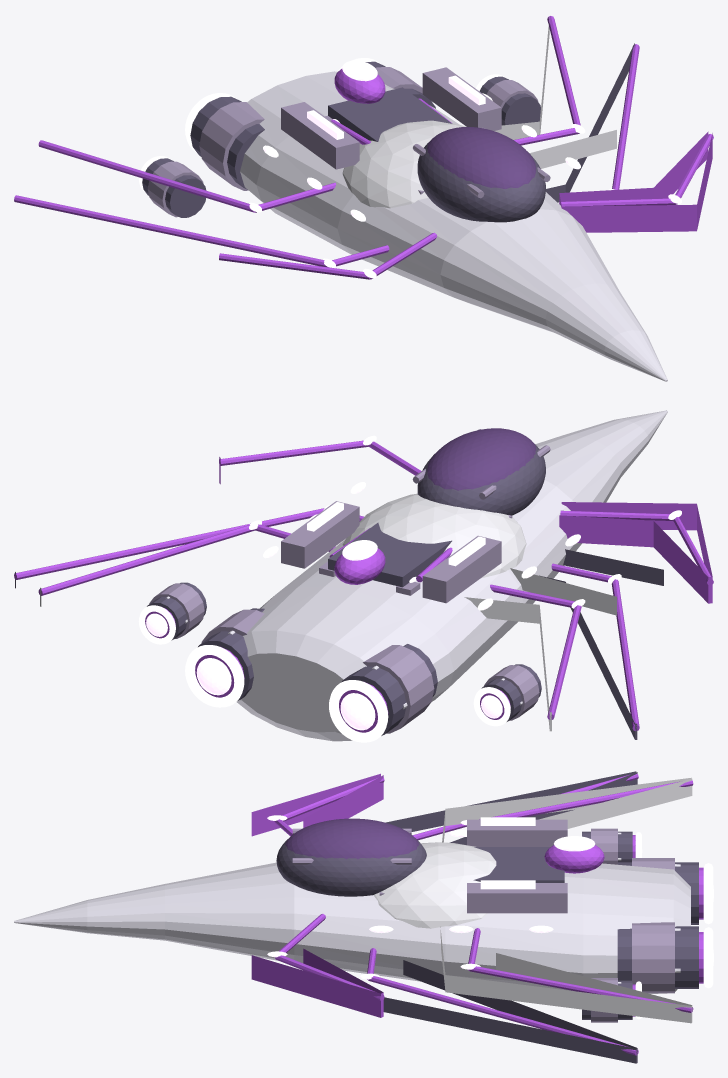
The model's file is SL_PHANTOM_FINAL.glb.
3 renders of one model, top to bottom at view 1: azimuth 30°, elevation 25°; view 2: azimuth 150°, elevation 25°; view 3: azimuth 270°, elevation 25°, orthographic. The views are drawn at different scales.
Parts seen in each view (by area): view 1: PHANTOM_hull, PHANTOM_accent, PHANTOM_dark, PHANTOM_steel, PHANTOM_ivory, PHANTOM_glass, PHANTOM_neon, PHANTOM_hot; view 2: PHANTOM_hull, PHANTOM_accent, PHANTOM_dark, PHANTOM_steel, PHANTOM_ivory, PHANTOM_neon, PHANTOM_hot, PHANTOM_glass; view 3: PHANTOM_hull, PHANTOM_dark, PHANTOM_ivory, PHANTOM_accent, PHANTOM_steel, PHANTOM_glass, PHANTOM_neon, PHANTOM_hot.
Boxes of the visible parts, left/top/right/bottom form: PHANTOM_hull: left=199, top=71, right=667, bottom=381; PHANTOM_accent: left=14, top=16, right=713, bottom=279; PHANTOM_dark: left=142, top=43, right=634, bottom=222; PHANTOM_steel: left=147, top=67, right=550, bottom=217; PHANTOM_ivory: left=342, top=17, right=616, bottom=208; PHANTOM_glass: left=427, top=127, right=536, bottom=188; PHANTOM_neon: left=249, top=60, right=681, bottom=278; PHANTOM_hot: left=139, top=58, right=505, bottom=192; PHANTOM_hull: left=166, top=410, right=667, bottom=741; PHANTOM_accent: left=14, top=440, right=713, bottom=732; PHANTOM_dark: left=15, top=444, right=663, bottom=739; PHANTOM_steel: left=149, top=429, right=550, bottom=733; PHANTOM_ivory: left=40, top=493, right=616, bottom=731; PHANTOM_neon: left=146, top=435, right=681, bottom=730; PHANTOM_hot: left=138, top=576, right=510, bottom=742; PHANTOM_glass: left=427, top=428, right=536, bottom=490; PHANTOM_hull: left=14, top=832, right=690, bottom=993; PHANTOM_dark: left=276, top=771, right=698, bottom=1063; PHANTOM_ivory: left=373, top=777, right=692, bottom=1023; PHANTOM_accent: left=251, top=773, right=703, bottom=1055; PHANTOM_steel: left=292, top=819, right=674, bottom=1022; PHANTOM_glass: left=285, top=818, right=419, bottom=859; PHANTOM_neon: left=267, top=815, right=713, bottom=979; PHANTOM_hot: left=635, top=832, right=713, bottom=1019.
Size of the model in its own units: 6.35 by 1.65 by 6.74.
